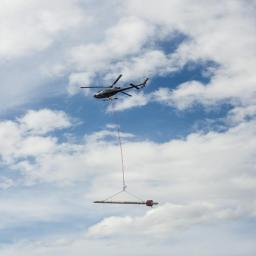helicopter: (80, 77, 162, 103)
